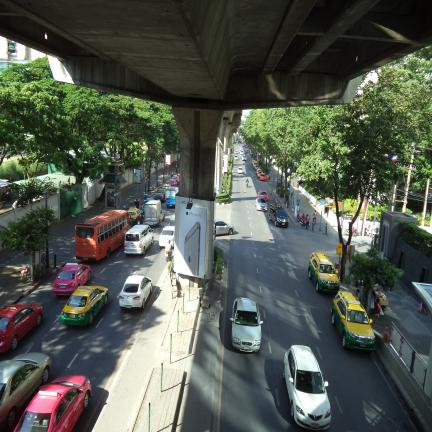bus: (75, 210, 129, 260)
car: (283, 345, 331, 430), (0, 352, 51, 430), (230, 298, 263, 351), (118, 275, 152, 308), (124, 224, 154, 256), (159, 225, 175, 247), (214, 220, 234, 235), (255, 197, 267, 211), (256, 168, 263, 178), (237, 167, 243, 174), (28, 429, 34, 430), (0, 383, 1, 385)
human: (165, 240, 172, 257), (306, 214, 310, 230), (313, 211, 317, 224), (301, 213, 305, 220), (297, 211, 300, 220)
motorbike: (165, 249, 172, 261), (298, 218, 306, 227), (343, 228, 350, 236), (352, 228, 357, 237), (246, 180, 249, 187)
pickup: (153, 188, 166, 202)
taxi: (15, 375, 92, 432), (331, 291, 375, 351), (0, 303, 44, 352), (61, 286, 108, 326), (308, 252, 340, 292), (52, 263, 91, 295), (128, 207, 143, 225), (258, 190, 268, 202), (259, 172, 270, 181), (171, 175, 179, 186), (167, 179, 177, 187), (162, 184, 172, 190), (257, 168, 263, 178), (254, 164, 260, 171)
truck: (165, 187, 179, 208)
van: (124, 225, 153, 255), (145, 200, 165, 225), (269, 204, 289, 228)
